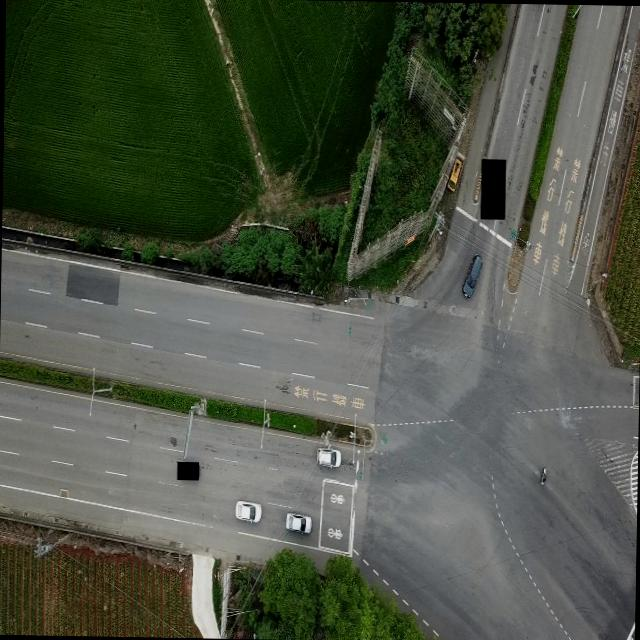bike: (538, 463, 548, 486)
car: (462, 252, 482, 296), (234, 499, 262, 523), (284, 512, 312, 534), (314, 446, 341, 468)
